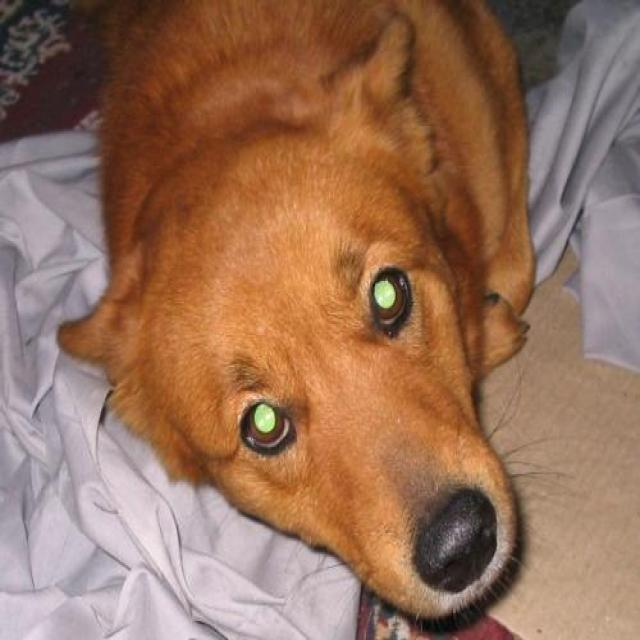Dogs: (52, 0, 564, 638)
